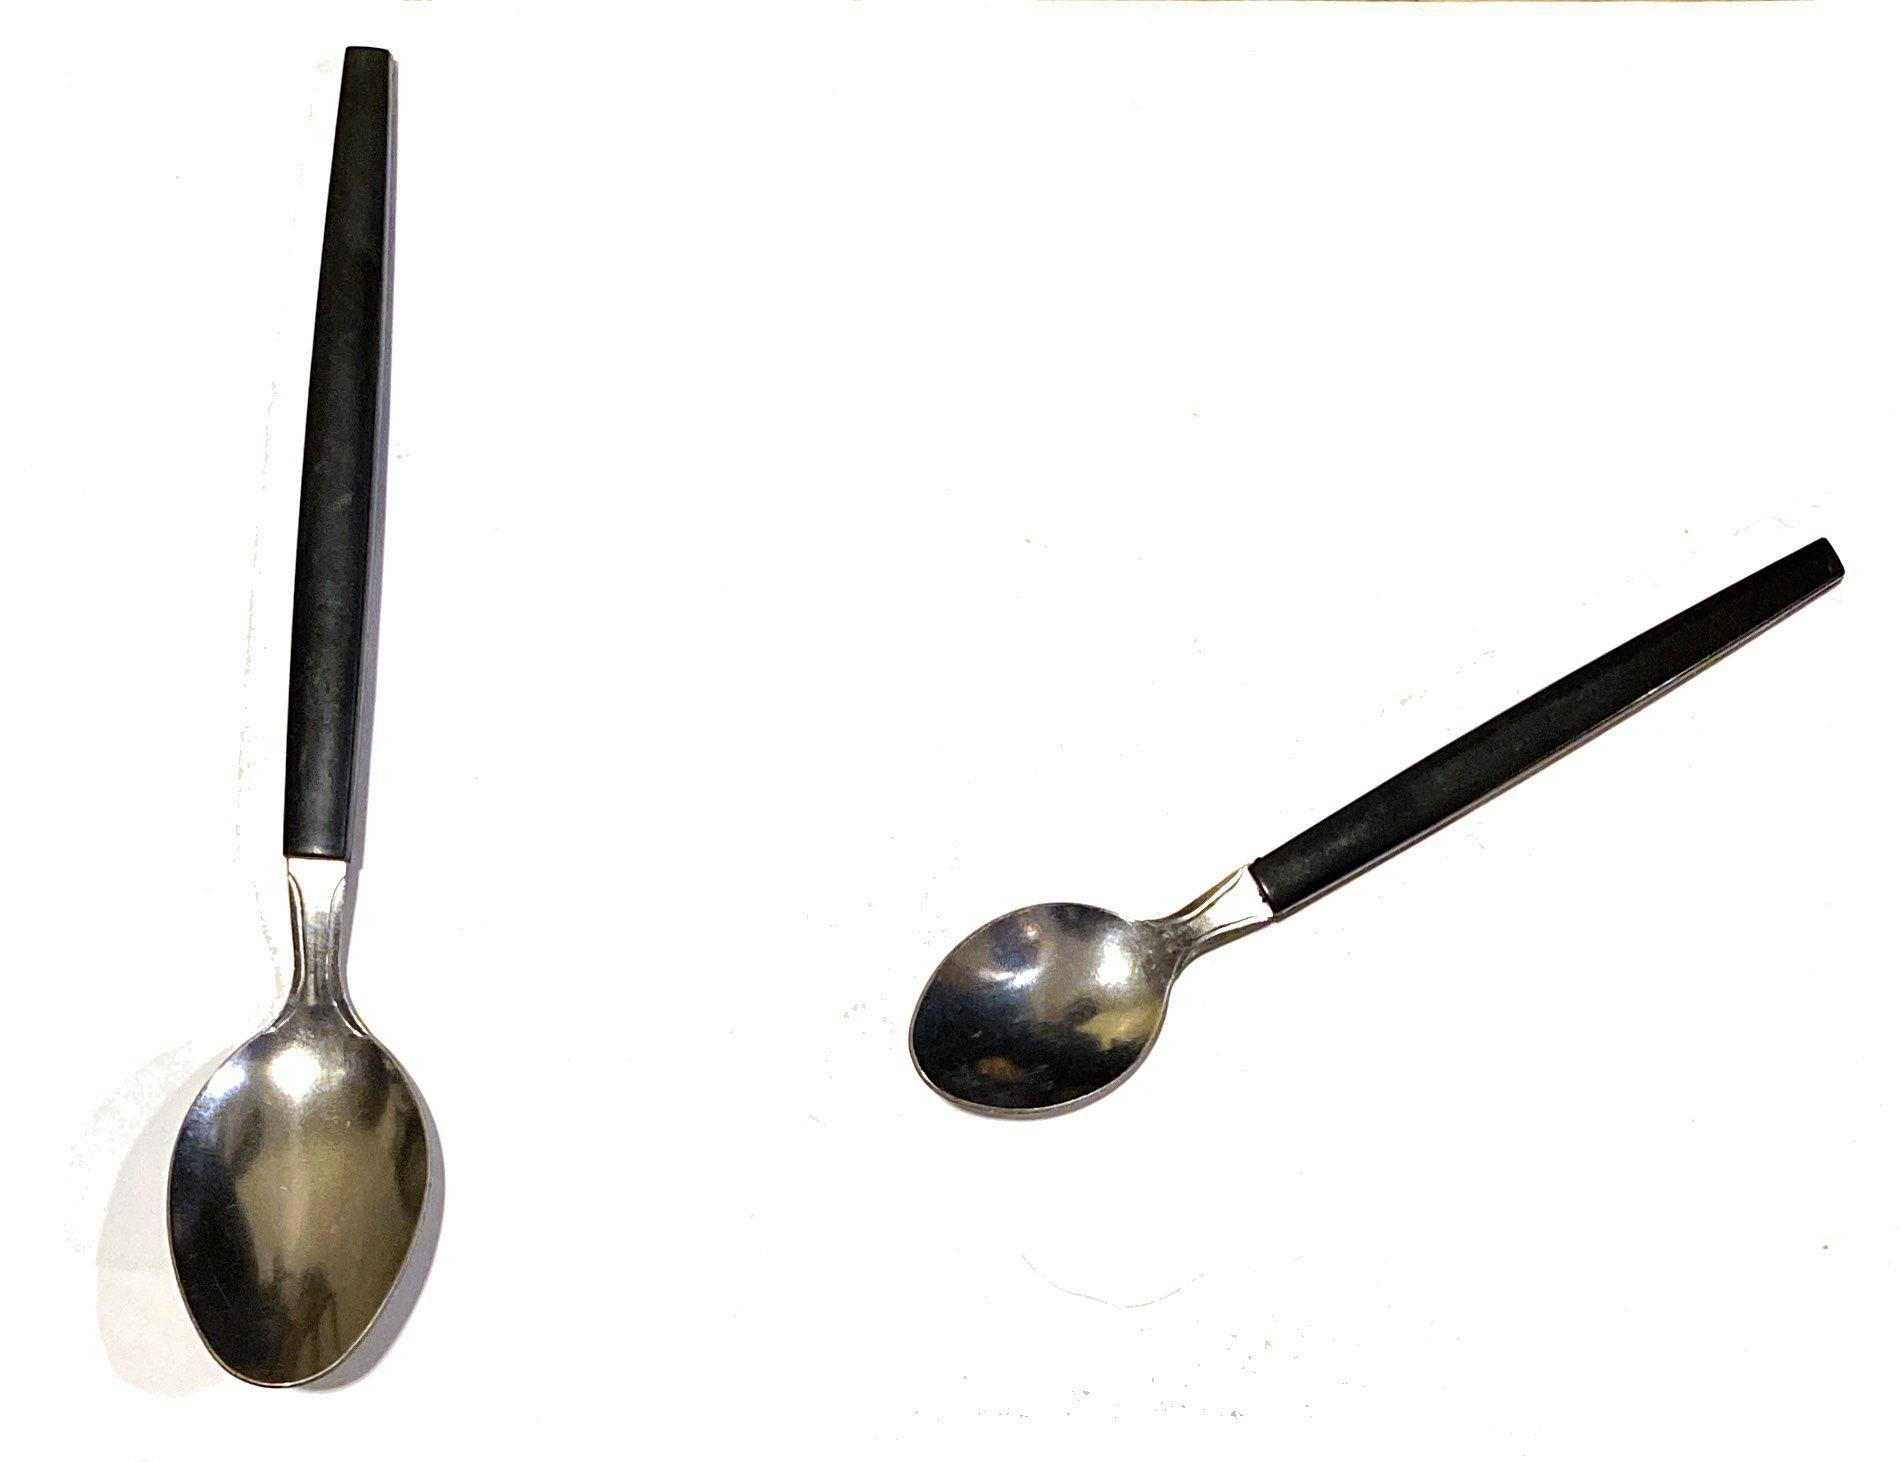Spoon: (869, 505, 1866, 1255), (154, 5, 622, 1404)
